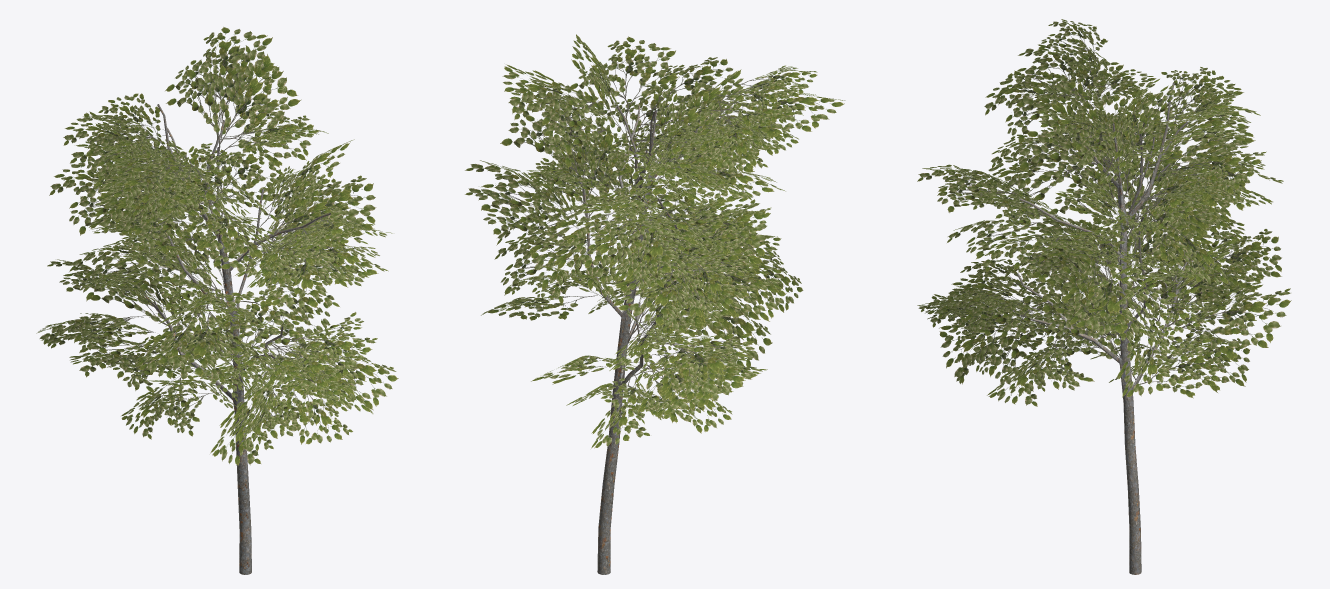
Rendered from MB_Ficus_Aurea_03.fbx.
The picture shows the model from 3 angles, left to right: view 1: azimuth 30°, elevation 25°; view 2: azimuth 150°, elevation 25°; view 3: azimuth 270°, elevation 25°; orthographic projection. The views are drawn at different scales.
Visible parts, largest first — view 1: MB_Ficus_Aurea_03_LOD0; view 2: MB_Ficus_Aurea_03_LOD0; view 3: MB_Ficus_Aurea_03_LOD0.
Part boxes in pixels (left/top/right/bottom): MB_Ficus_Aurea_03_LOD0: left=36, top=27, right=398, bottom=574; MB_Ficus_Aurea_03_LOD0: left=465, top=34, right=845, bottom=574; MB_Ficus_Aurea_03_LOD0: left=917, top=19, right=1291, bottom=574.
Size of what is drawn, in the model's own units: 371 by 546 by 400.
